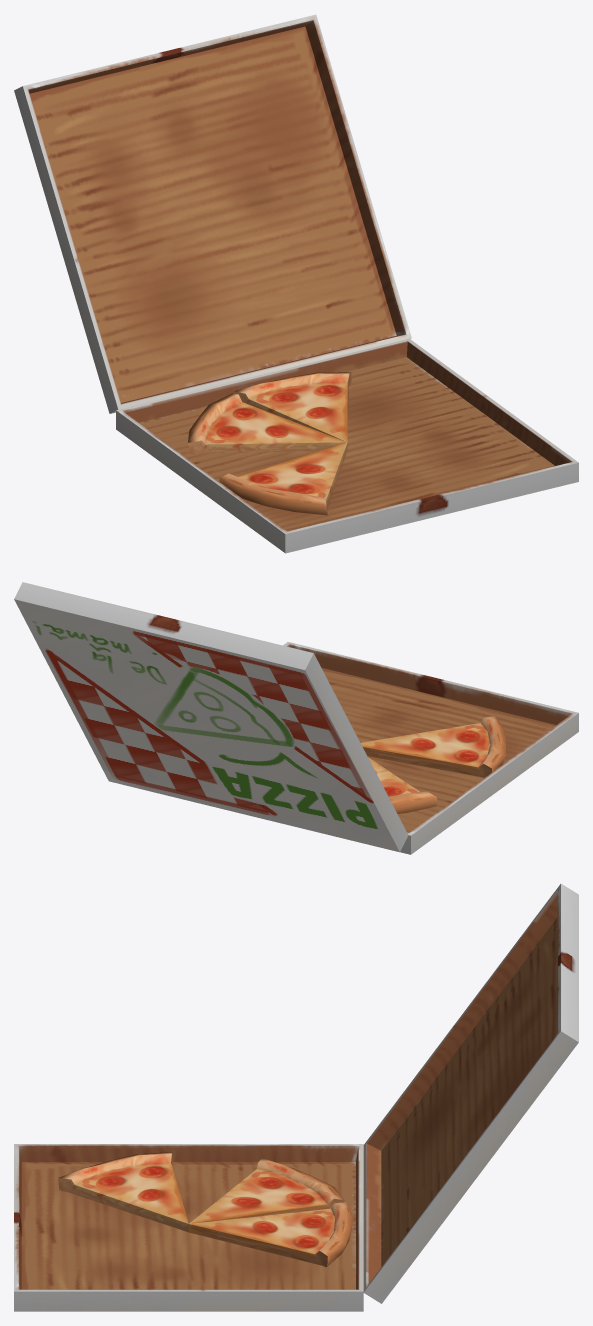
File: pizzaboxhalf.fbx
3 renders of one model, top to bottom at view 1: azimuth 30°, elevation 25°; view 2: azimuth 150°, elevation 25°; view 3: azimuth 270°, elevation 25°, orthographic. The views are drawn at different scales.
Visible parts, largest first — view 1: Cube.001, pizzaboxhalf, Cylinder.015, Cylinder.007, Cylinder.001; view 2: Cube.001, pizzaboxhalf, Cylinder.007, Cylinder.015; view 3: pizzaboxhalf, Cube.001, Cylinder.007, Cylinder.001, Cylinder.015.
Boxes of the visible parts, left/top/right/bottom form: Cube.001: left=14, top=14, right=411, bottom=413; pizzaboxhalf: left=116, top=338, right=578, bottom=553; Cylinder.015: left=188, top=393, right=346, bottom=454; Cylinder.007: left=219, top=442, right=347, bottom=515; Cylinder.001: left=234, top=372, right=351, bottom=442; Cube.001: left=14, top=582, right=408, bottom=852; pizzaboxhalf: left=283, top=642, right=578, bottom=854; Cylinder.007: left=361, top=716, right=506, bottom=777; Cylinder.015: left=368, top=757, right=436, bottom=813; pizzaboxhalf: left=14, top=1144, right=363, bottom=1311; Cube.001: left=363, top=883, right=578, bottom=1303; Cylinder.007: left=58, top=1152, right=188, bottom=1232; Cylinder.001: left=189, top=1202, right=353, bottom=1267; Cylinder.015: left=189, top=1158, right=344, bottom=1223.
Bounding box in the file's own units: 48.98 × 43.17 × 78.52.
